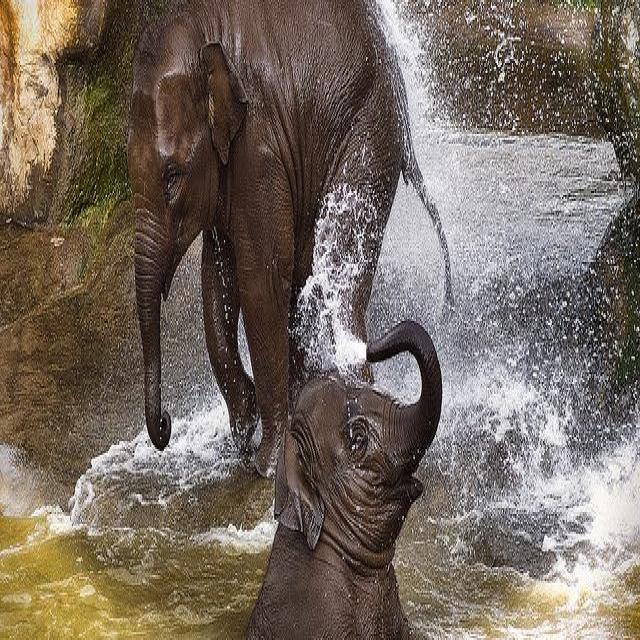Elephant: (112, 0, 455, 458), (251, 315, 446, 640)
